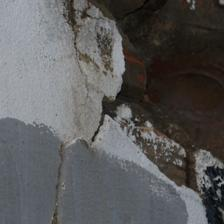Crack: (5, 16, 107, 121), (0, 38, 108, 93)
